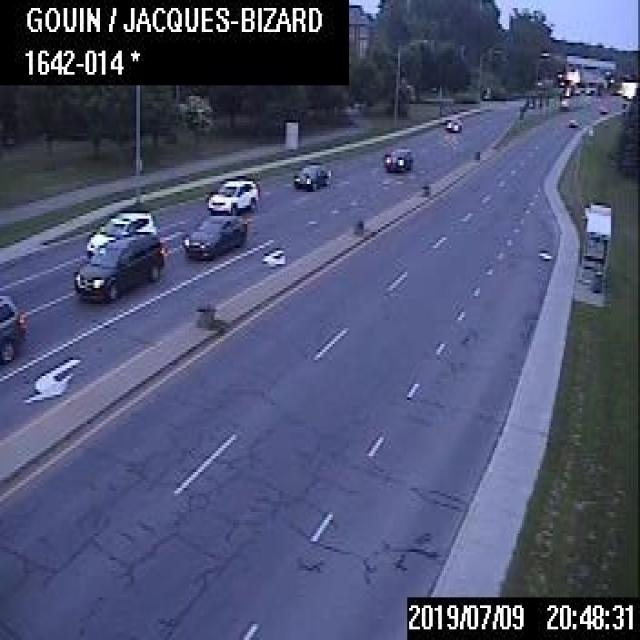vehicle: (73, 229, 161, 301), (85, 211, 156, 255), (182, 214, 246, 257), (0, 290, 27, 360), (206, 178, 258, 212), (292, 162, 331, 189), (384, 147, 411, 171), (445, 117, 461, 130), (567, 117, 578, 125), (598, 103, 606, 112)
